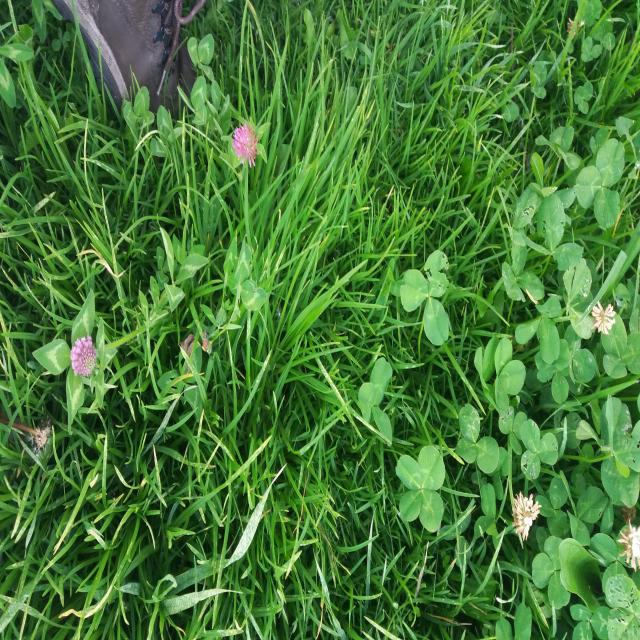Four Leaf Clover: (396, 445, 446, 533)
